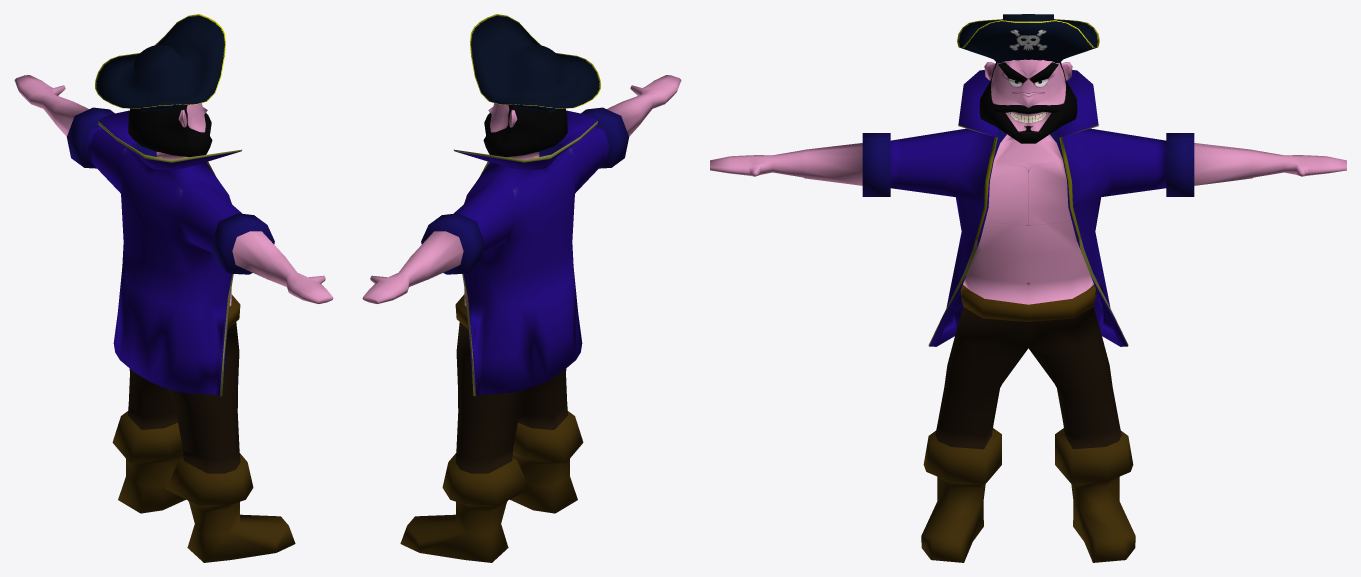
The picture shows the model from 3 angles, left to right: view 1: azimuth 30°, elevation 25°; view 2: azimuth 150°, elevation 25°; view 3: azimuth 270°, elevation 25°; orthographic projection. The views are drawn at different scales.
Visible parts, largest first — view 1: PIRATA_pirataHijo; view 2: PIRATA_pirataHijo; view 3: PIRATA_pirataHijo.
Boxes of the visible parts, x1,y1,x2,y2 form: PIRATA_pirataHijo: [14, 14, 333, 562]; PIRATA_pirataHijo: [362, 14, 681, 562]; PIRATA_pirataHijo: [710, 14, 1346, 562].
Size of the model in its own units: 3.13 by 9.76 by 10.8.
Materials: 1 (1 with a texture image).
